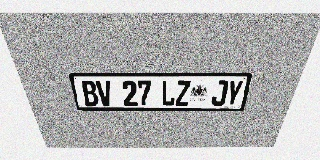2: (121, 80, 138, 106)
7: (137, 80, 152, 106)
B: (80, 80, 99, 106)
J: (211, 80, 229, 106)
L: (161, 80, 176, 106)
V: (95, 80, 113, 106)
Y: (225, 80, 244, 106)
Z: (175, 80, 191, 106)
